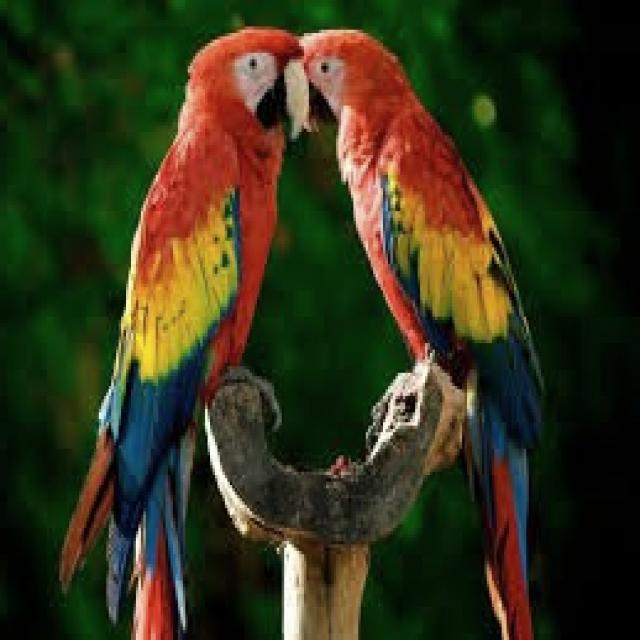parrot: (62, 26, 311, 637), (301, 30, 541, 637)
